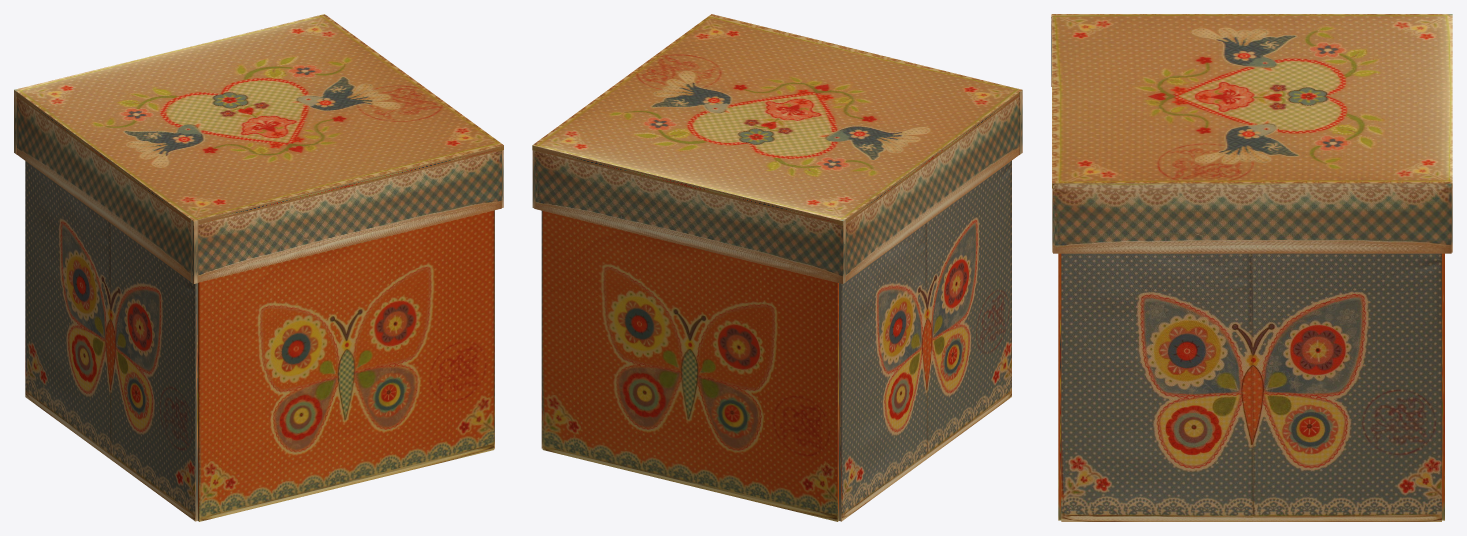
File: toy-box.fbx
The picture shows the model from 3 angles, left to right: view 1: azimuth 30°, elevation 25°; view 2: azimuth 150°, elevation 25°; view 3: azimuth 270°, elevation 25°; orthographic projection. The views are drawn at different scales.
Parts seen in each view (by area): view 1: Box, Box6, Box2, Box8, Box5; view 2: Box1, Box6, Box2, Box9, Box5; view 3: Box3, Box6, Box7, Box, Box1.
Boxes of the visible parts, box(x1,y1,x2,y2) form: Box: box(198, 210, 494, 521); Box6: box(14, 14, 503, 225); Box2: box(25, 161, 197, 521); Box8: box(190, 150, 501, 283); Box5: box(17, 97, 198, 283); Box1: box(542, 211, 838, 521); Box6: box(532, 14, 1022, 225); Box2: box(839, 160, 1011, 521); Box9: box(534, 151, 845, 283); Box5: box(846, 88, 1021, 281); Box3: box(1061, 253, 1441, 521); Box6: box(1052, 14, 1452, 188); Box7: box(1053, 183, 1451, 253); Box: box(1058, 253, 1061, 520); Box1: box(1442, 253, 1444, 520).
Bounding box in the file's own units: 3.37 × 3.16 × 3.38.
5 materials, 4 textured.
